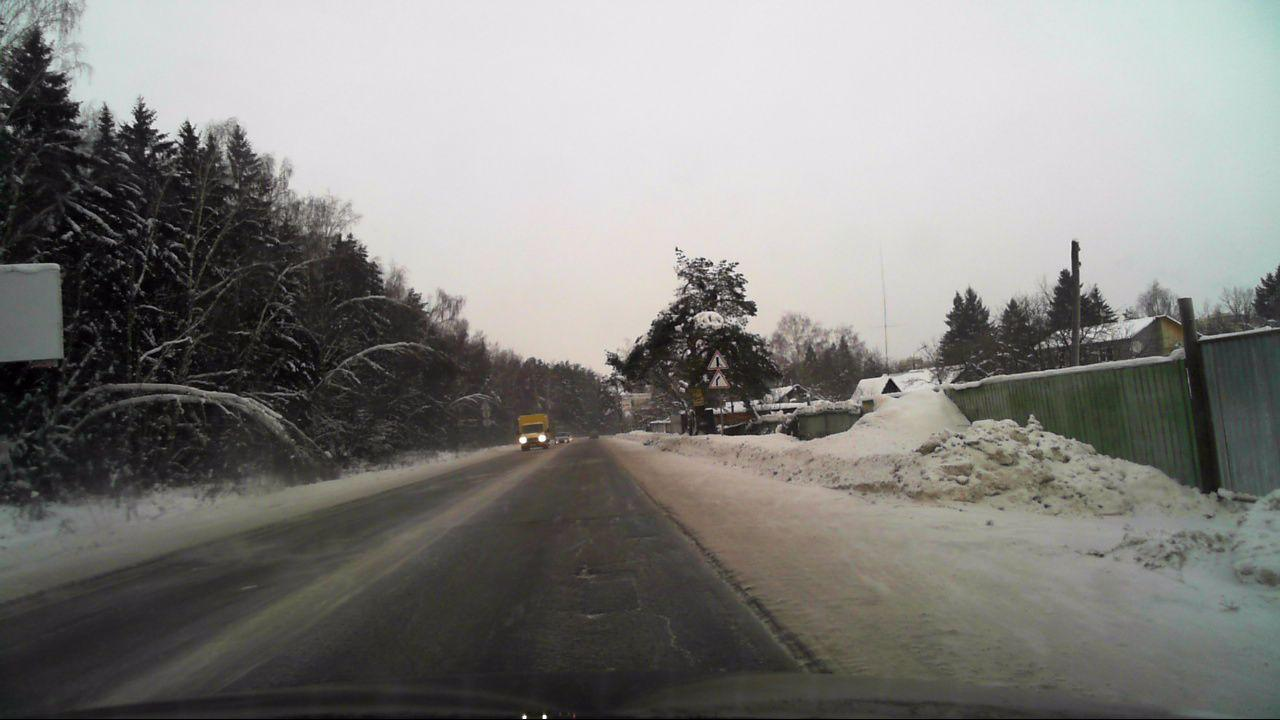1_11_1: (708, 368, 731, 388)
2_3_6: (707, 349, 728, 370)
